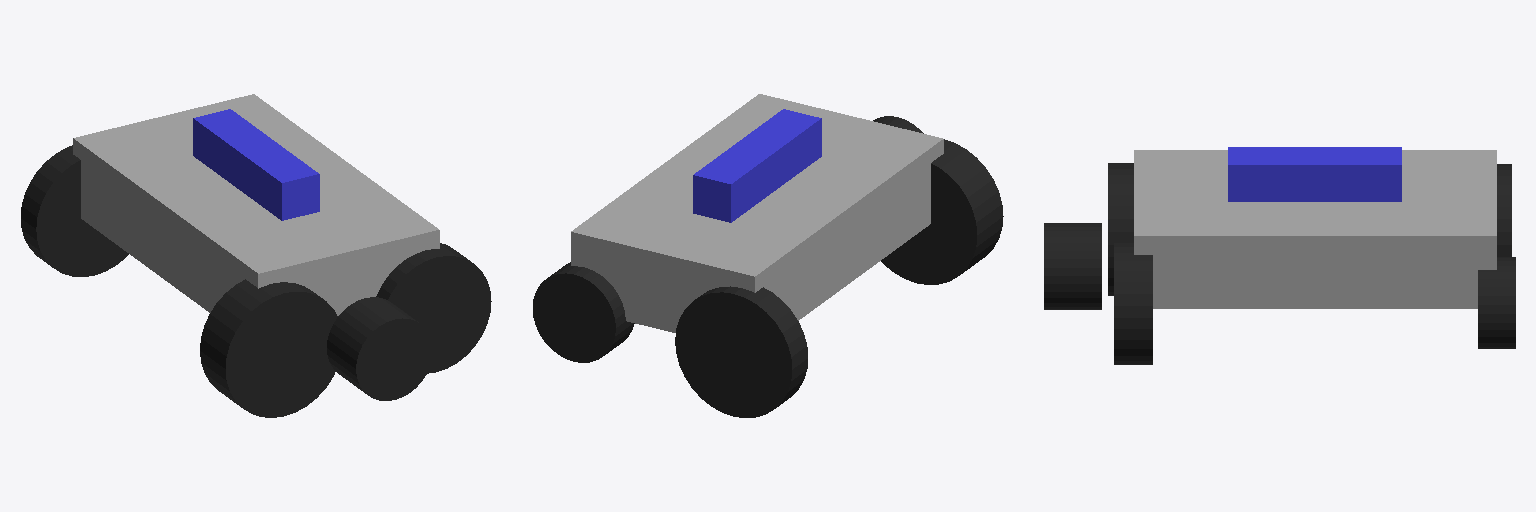
The robot description file, URDF, robot "evolved_robot":
<?xml version="1.0"?>
<robot name="evolved_robot">
  <material name="metal">
    <color rgba="0.7 0.7 0.7 1.0"/>
  </material>
  <material name="plastic">
    <color rgba="0.3 0.3 0.9 1.0"/>
  </material>
  <material name="rubber">
    <color rgba="0.1 0.1 0.1 1.0"/>
  </material>
  <material name="red">
    <color rgba="1.0 0.0 0.0 1.0"/>
  </material>
  <material name="wheel_material">
    <color rgba="0.2 0.2 0.2 1.0"/>
  </material>
  <link name="base_link">
    <visual>
      <geometry><box size="0.27712217585989146 0.4915286942678372 0.10917641224025697"/></geometry>
      <material name="metal"/>
    </visual>
    <collision>
      <geometry><box size="0.27712217585989146 0.4915286942678372 0.10917641224025697"/></geometry>
    </collision>
    <inertial>
      <mass value="5.0"/>
      <inertia ixx="0.21126662189858292" ixy="0" ixz="0" 
               iyy="0.07393015778581262" iyz="0" 
               izz="0.265330964701638"/>
    </inertial>
  </link>
  <link name="link1">
    <visual>
      <geometry>
        <cylinder radius="0.06276374789163566" length="0.0514543559049874"/>
      </geometry>
      <material name="wheel_material"/>
    </visual>
    <collision>
      <geometry>
        <cylinder radius="0.06276374789163566" length="0.0514543559049874"/>
      </geometry>
    </collision>
    <inertial>
      <mass value="1.0"/>
      <inertia ixx="0.001205451240817626" ixy="0" ixz="0" 
               iyy="0.001205451240817626" iyz="0" 
               izz="0.0019696440247024"/>
    </inertial>
  </link>
  <joint name="joint1" type="continuous">
    <parent link="base_link"/>
    <child link="link1"/>
    <origin xyz="0.11856108792994573 0.2457643471339186 -0.054588206120128484" rpy="1.5708 0 0"/>
    <axis xyz="0 1 0"/>
    <dynamics damping="0.800080736609337" friction="0.1"/>
  </joint>
  <link name="link2">
    <visual>
      <geometry>
        <cylinder radius="0.08407643651479826" length="0.05291372827343796"/>
      </geometry>
      <material name="wheel_material"/>
    </visual>
    <collision>
      <geometry>
        <cylinder radius="0.08407643651479826" length="0.05291372827343796"/>
      </geometry>
    </collision>
    <inertial>
      <mass value="1.0"/>
      <inertia ixx="0.002000533680906328" ixy="0" ixz="0" 
               iyy="0.002000533680906328" iyz="0" 
               izz="0.0035344235885134516"/>
    </inertial>
  </link>
  <joint name="joint2" type="continuous">
    <parent link="base_link"/>
    <child link="link2"/>
    <origin xyz="0.11856108792994573 -0.2457643471339186 -0.054588206120128484" rpy="1.5708 0 0"/>
    <axis xyz="0 1 0"/>
    <dynamics damping="0.856863713544254" friction="0.1"/>
  </joint>
  <link name="link3">
    <visual>
      <geometry>
        <cylinder radius="0.08824353006448557" length="0.041890673446398144"/>
      </geometry>
      <material name="wheel_material"/>
    </visual>
    <collision>
      <geometry>
        <cylinder radius="0.08824353006448557" length="0.041890673446398144"/>
      </geometry>
    </collision>
    <inertial>
      <mass value="1.0"/>
      <inertia ixx="0.0020929658597098394" ixy="0" ixz="0" 
               iyy="0.0020929658597098394" iyz="0" 
               izz="0.0038934602991208844"/>
    </inertial>
  </link>
  <joint name="joint3" type="continuous">
    <parent link="base_link"/>
    <child link="link3"/>
    <origin xyz="-0.11856108792994573 0.2457643471339186 -0.054588206120128484" rpy="1.5708 0 0"/>
    <axis xyz="0 1 0"/>
    <dynamics damping="0.8658165578471536" friction="0.1"/>
  </joint>
  <link name="link4">
    <visual>
      <geometry>
        <cylinder radius="0.09012320174228113" length="0.06804195060416562"/>
      </geometry>
      <material name="wheel_material"/>
    </visual>
    <collision>
      <geometry>
        <cylinder radius="0.09012320174228113" length="0.06804195060416562"/>
      </geometry>
    </collision>
    <inertial>
      <mass value="1.0"/>
      <inertia ixx="0.0024163567932382855" ixy="0" ixz="0" 
               iyy="0.0024163567932382855" iyz="0" 
               izz="0.004061095746139952"/>
    </inertial>
  </link>
  <joint name="joint4" type="continuous">
    <parent link="base_link"/>
    <child link="link4"/>
    <origin xyz="-0.11856108792994573 -0.2457643471339186 -0.054588206120128484" rpy="1.5708 0 0"/>
    <axis xyz="0 1 0"/>
    <dynamics damping="0.8507116336989089" friction="0.1"/>
  </joint>
  <link name="link5">
    <visual>
      <geometry><box size="0.05759607160511873 0.23544373523731527 0.11067024599114919"/></geometry>
      <material name="plastic"/>
    </visual>
    <collision>
      <geometry><box size="0.05759607160511873 0.23544373523731527 0.11067024599114919"/></geometry>
    </collision>
    <inertial>
      <mass value="0.5"/>
      <inertia ixx="0.005640137984186707" ixy="0" ixz="0" 
               iyy="0.001297100901006953" iyz="0" 
               izz="0.004895921660570081"/>
    </inertial>
  </link>
  <joint name="joint5" type="floating">
    <parent link="base_link"/>
    <child link="link5"/>
    <origin xyz="0 0 0.054588206120128484" rpy="0 0 0"/>
    <axis xyz="-0.7427397466587439 -0.4173220355230868 0.5236219890342387"/>
    <dynamics damping="0.6742539525682554" friction="0.1"/>
  </joint>
  <link name="link6">
    <visual>
      <geometry>
        <cylinder radius="0.05897867277503349" length="0.07746693340063038"/>
      </geometry>
      <material name="wheel_material"/>
    </visual>
    <collision>
      <geometry>
        <cylinder radius="0.05897867277503349" length="0.07746693340063038"/>
      </geometry>
    </collision>
    <inertial>
      <mass value="1.0"/>
      <inertia ixx="0.001369714774784261" ixy="0" ixz="0" 
               iyy="0.001369714774784261" iyz="0" 
               izz="0.0017392419211522383"/>
    </inertial>
  </link>
  <joint name="joint6" type="continuous">
    <parent link="base_link"/>
    <child link="link6"/>
    <origin xyz="0 -0.32768579617855814 -0.054588206120128484" rpy="1.5708 0 0"/>
    <axis xyz="0 1 0"/>
    <dynamics damping="0.29333186413917367" friction="0.1"/>
  </joint>
</robot>

--- Render facts (derived) ---
3 views of the same robot in one strip: view 1: azimuth 30°, elevation 25°; view 2: azimuth 150°, elevation 25°; view 3: azimuth 270°, elevation 25° (orthographic).
Model evolved_robot with 7 links and 6 joints (5 continuous, 1 floating), rooted at base_link, posed all joints at 0.
Links seen in each view (by area): view 1: base_link, link4, link2, link6, link5, link3; view 2: base_link, link3, link4, link5, link1; view 3: base_link, link5, link6, link2, link1, link4, link3.
Link boxes in pixels (bbox=[...]): base_link: bbox=[73, 94, 439, 315]; link4: bbox=[200, 279, 337, 417]; link2: bbox=[376, 243, 491, 373]; link6: bbox=[327, 297, 432, 400]; link5: bbox=[193, 109, 319, 220]; link3: bbox=[21, 145, 128, 276]; base_link: bbox=[571, 94, 943, 332]; link3: bbox=[675, 286, 807, 417]; link4: bbox=[881, 139, 1003, 284]; link5: bbox=[693, 109, 821, 222]; link1: bbox=[533, 262, 634, 362]; base_link: bbox=[1134, 150, 1496, 308]; link5: bbox=[1228, 147, 1401, 201]; link6: bbox=[1044, 223, 1101, 309]; link2: bbox=[1114, 241, 1152, 364]; link1: bbox=[1478, 257, 1515, 348]; link4: bbox=[1108, 163, 1133, 295]; link3: bbox=[1497, 164, 1511, 256].
Size in the robot's own frame: 0.4113 by 0.6379 by 0.2546 metres.
Geometry: primitives only (box / cylinder / sphere), no mesh files.